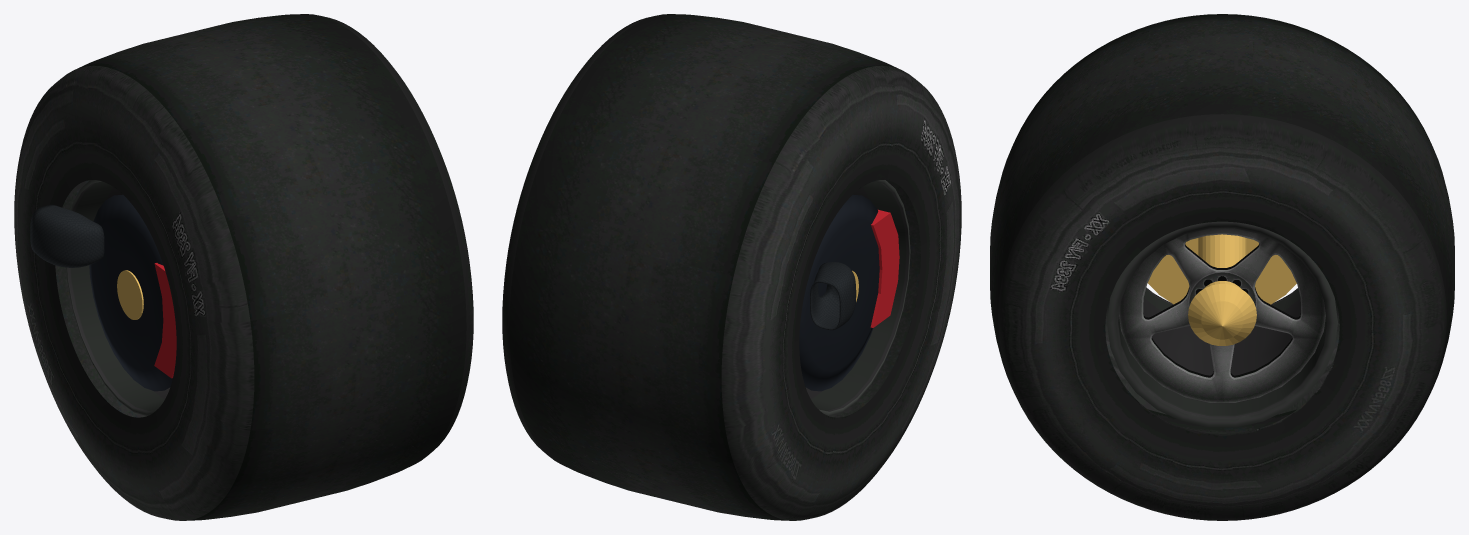
The model's file is f1_2030_v10_wheel_RR.glb.
3 renders of one model, left to right at view 1: azimuth 30°, elevation 25°; view 2: azimuth 150°, elevation 25°; view 3: azimuth 270°, elevation 25°, orthographic. The views are drawn at different scales.
Parts seen in each view (by area): view 1: GEO_WHEEL_REAR_RIGHT_TIRE, GEO_BRAKE_REAR_RIGHT_DISC, GEO_WHEEL_REAR_RIGHT_RIM_AND_SPOKES, GEO_BRAKE_REAR_RIGHT_DUCT, GEO_BRAKE_REAR_RIGHT_CALIPER, GEO_WHEEL_REAR_RIGHT_HUB; view 2: GEO_WHEEL_REAR_RIGHT_TIRE, GEO_BRAKE_REAR_RIGHT_DISC, GEO_WHEEL_REAR_RIGHT_RIM_AND_SPOKES, GEO_BRAKE_REAR_RIGHT_DUCT, GEO_BRAKE_REAR_RIGHT_CALIPER; view 3: GEO_WHEEL_REAR_RIGHT_TIRE, GEO_WHEEL_REAR_RIGHT_RIM_AND_SPOKES, GEO_WHEEL_REAR_RIGHT_CENTER_LOCK_NUT, GEO_BRAKE_REAR_RIGHT_INBOARD_DUCT_COVER, GEO_WHEEL_REAR_RIGHT_HUB.
Part boxes in pixels (x1=…): GEO_WHEEL_REAR_RIGHT_TIRE: x1=14, y1=14, x2=473, y2=520; GEO_BRAKE_REAR_RIGHT_DISC: x1=89, y1=194, x2=172, y2=391; GEO_WHEEL_REAR_RIGHT_RIM_AND_SPOKES: x1=66, y1=180, x2=170, y2=415; GEO_BRAKE_REAR_RIGHT_DUCT: x1=30, y1=204, x2=104, y2=267; GEO_BRAKE_REAR_RIGHT_CALIPER: x1=154, y1=263, x2=176, y2=378; GEO_WHEEL_REAR_RIGHT_HUB: x1=117, y1=270, x2=143, y2=319; GEO_WHEEL_REAR_RIGHT_TIRE: x1=502, y1=14, x2=961, y2=520; GEO_BRAKE_REAR_RIGHT_DISC: x1=799, y1=194, x2=879, y2=391; GEO_WHEEL_REAR_RIGHT_RIM_AND_SPOKES: x1=805, y1=180, x2=910, y2=415; GEO_BRAKE_REAR_RIGHT_DUCT: x1=810, y1=262, x2=856, y2=330; GEO_BRAKE_REAR_RIGHT_CALIPER: x1=870, y1=209, x2=899, y2=327; GEO_WHEEL_REAR_RIGHT_TIRE: x1=990, y1=14, x2=1454, y2=520; GEO_WHEEL_REAR_RIGHT_RIM_AND_SPOKES: x1=1107, y1=221, x2=1337, y2=427; GEO_WHEEL_REAR_RIGHT_CENTER_LOCK_NUT: x1=1188, y1=284, x2=1256, y2=345; GEO_BRAKE_REAR_RIGHT_INBOARD_DUCT_COVER: x1=1148, y1=238, x2=1296, y2=304; GEO_WHEEL_REAR_RIGHT_HUB: x1=1198, y1=234, x2=1246, y2=288.
Bounding box in the file's own units: 0.4699 × 0.67 × 0.67.
Materials: 7 (4 with a texture image).
